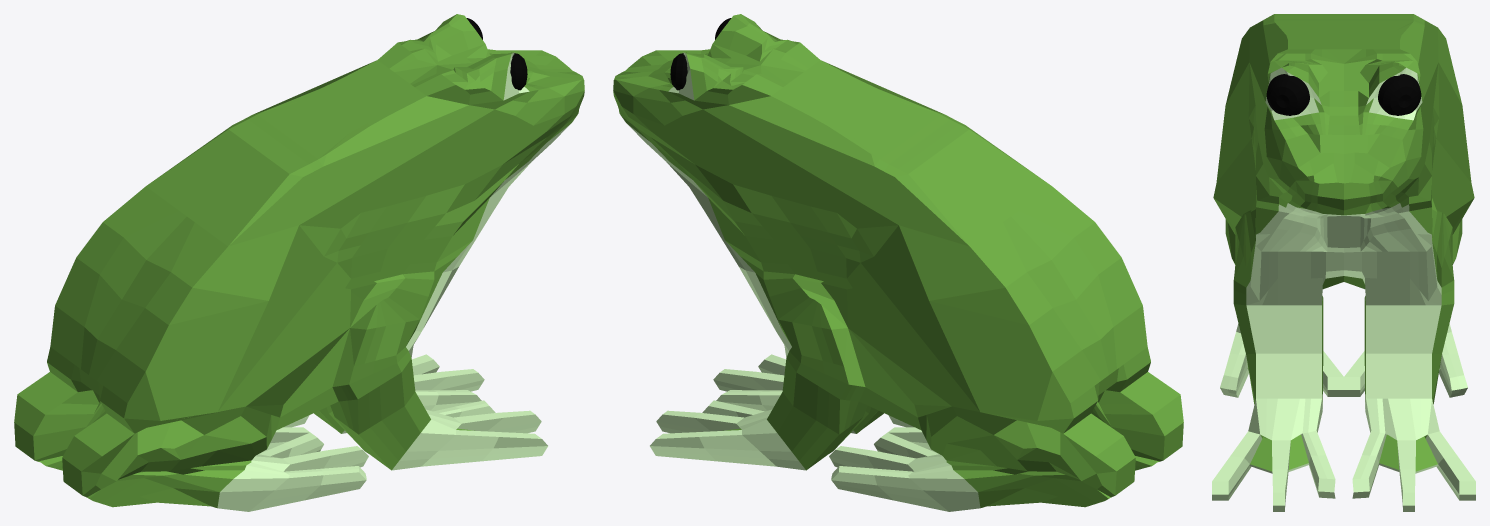
The model's file is notafrog2smooth.glb.
3 renders of one model, left to right at view 1: azimuth 30°, elevation 25°; view 2: azimuth 150°, elevation 25°; view 3: azimuth 270°, elevation 25°, orthographic. The views are drawn at different scales.
Parts seen in each view (by area): view 1: Plane; view 2: Plane; view 3: Plane, Torus, Torus.001.
Boxes of the visible parts, x1,y1,x2,y2 form: Plane: (14,14,584,511); Plane: (613,14,1183,511); Plane: (1212,14,1475,511); Torus: (1266,74,1309,115); Torus.001: (1378,74,1421,115).
Size of the model in its own units: 3.28 by 2.25 by 1.24.
